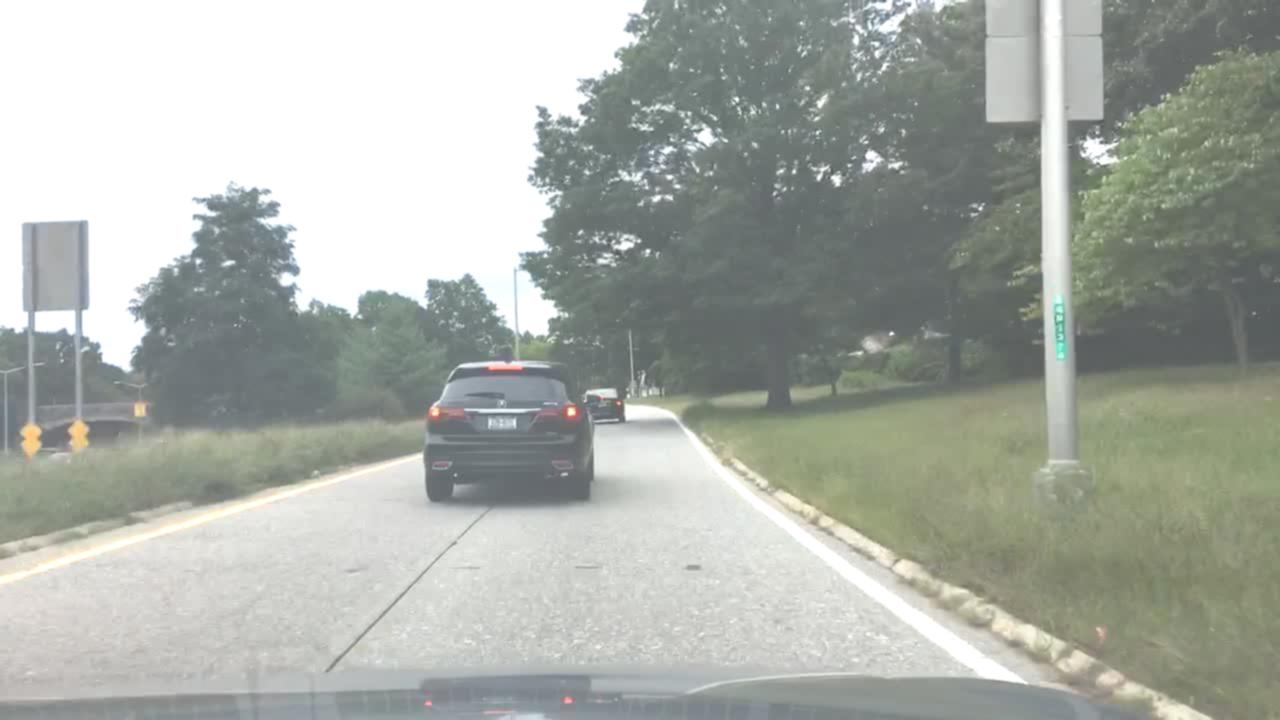acura: (496, 399, 508, 410)
